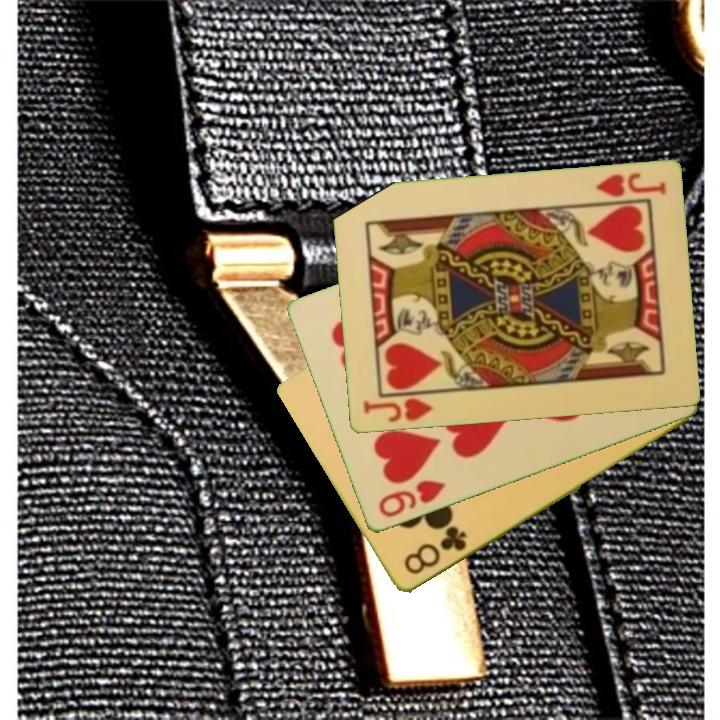8c: (400, 523, 470, 578)
9h: (375, 477, 448, 521)
Jh: (359, 389, 441, 426), (592, 169, 669, 201)
